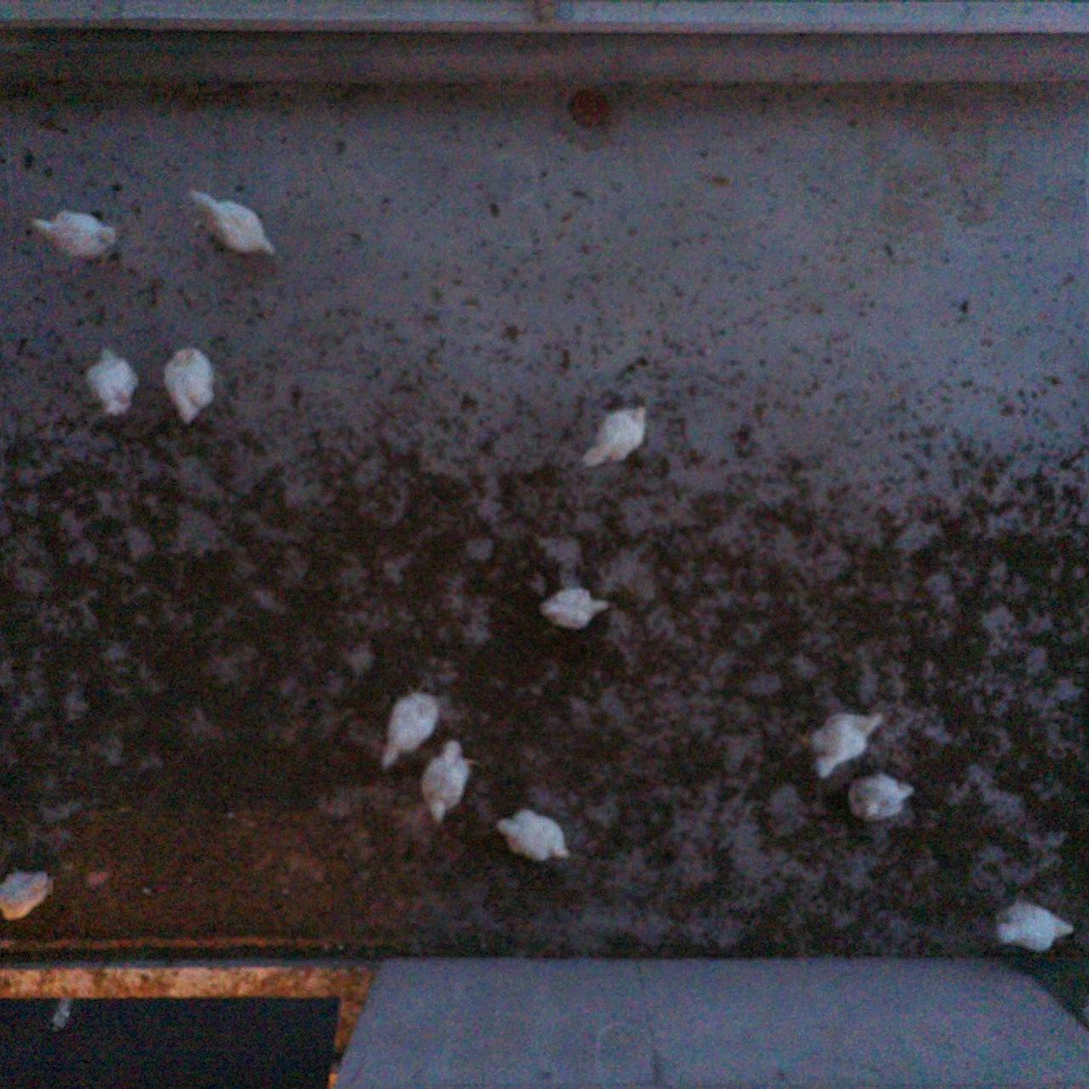chicken: (182, 182, 286, 269), (375, 676, 448, 777), (794, 708, 889, 782), (22, 204, 127, 269), (984, 887, 1077, 957), (415, 733, 480, 833), (575, 400, 657, 474), (157, 341, 224, 428), (79, 340, 143, 420), (491, 804, 573, 865), (532, 583, 615, 637), (842, 769, 917, 827), (0, 863, 59, 927)
